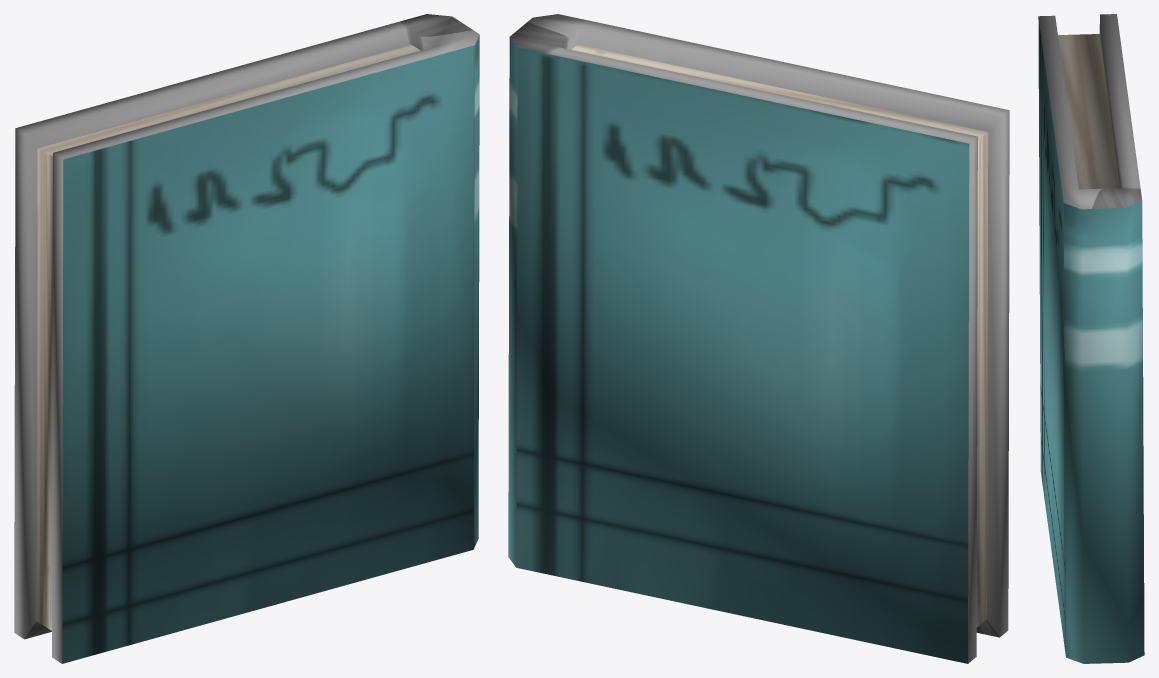
Rendered from Livro6.fbx.
3 views of the same model, side by side, from view 1: azimuth 30°, elevation 25°; view 2: azimuth 150°, elevation 25°; view 3: azimuth 270°, elevation 25° (orthographic). The views are drawn at different scales.
Visible parts, largest first — view 1: Livro6; view 2: Livro6; view 3: Livro6.
Part boxes in pixels (<box>): Livro6: <box>14,14,479,663</box>; Livro6: <box>508,14,1009,663</box>; Livro6: <box>1038,14,1144,663</box>.
Size of the model in its own units: 50 by 11.48 by 54.37.
